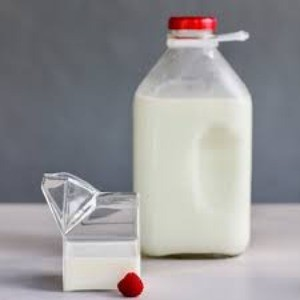milk_brain food: (142, 82, 255, 253)
